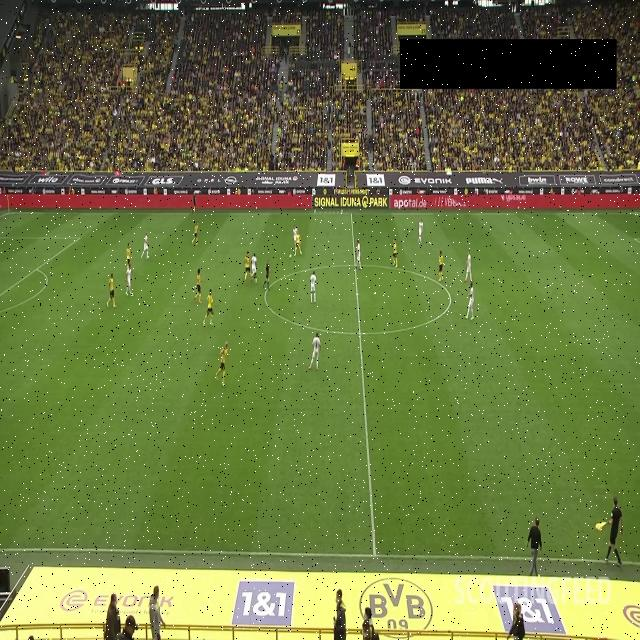Ball: (290, 253, 292, 260)
Referee: (596, 496, 623, 566), (262, 261, 270, 291), (192, 190, 197, 212)
TEAM 1: (215, 342, 230, 388), (202, 290, 215, 325), (106, 274, 116, 308), (195, 268, 202, 304), (244, 251, 252, 281), (294, 232, 302, 256), (192, 221, 199, 245), (393, 238, 398, 270), (438, 252, 443, 282), (126, 241, 131, 271)
TEAM 2: (308, 332, 322, 371), (466, 280, 476, 320), (463, 248, 473, 283), (125, 263, 134, 297), (140, 232, 149, 260), (355, 239, 362, 272), (310, 271, 317, 302), (251, 253, 258, 284), (416, 218, 424, 245), (292, 223, 299, 243)
